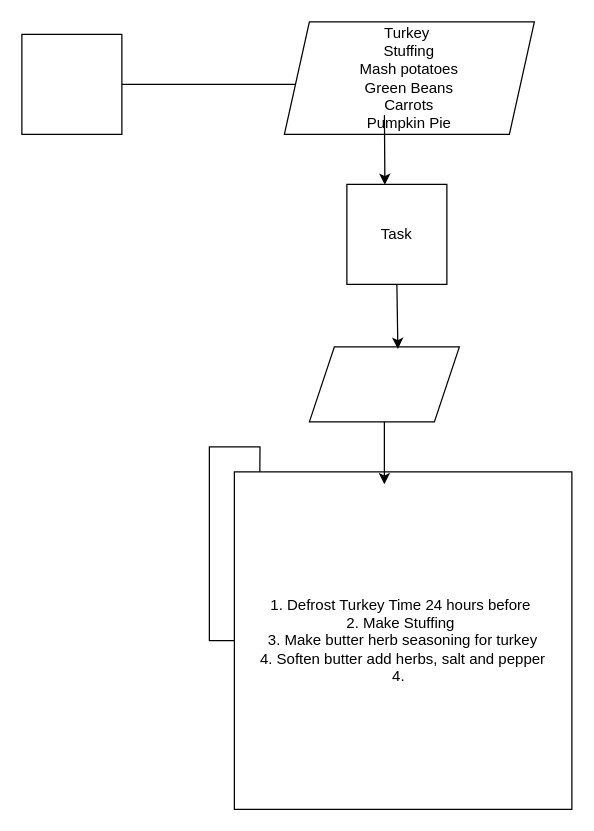
Image size: 594x831. Some labels were removed from this diagram. Each missing label, with the box of its shape:
Prepare Turkey & Stuffing: (308, 346, 459, 422)
Thanksgiving Menu: (21, 33, 122, 134)
